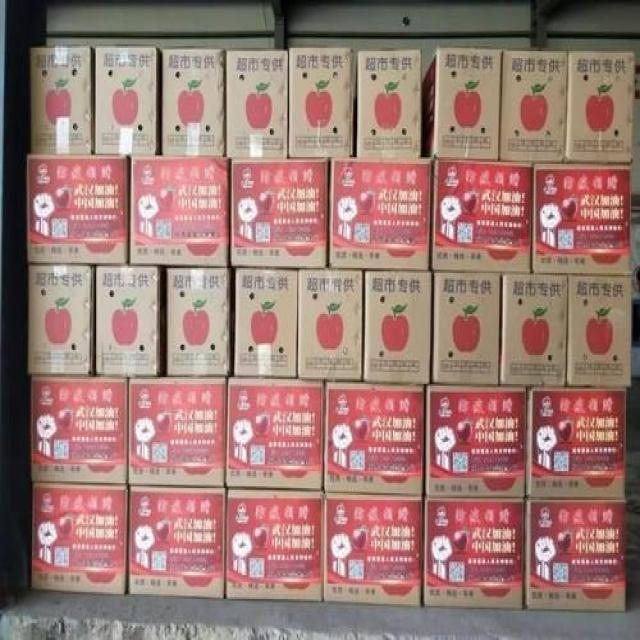box: (431, 160, 534, 273), (330, 159, 433, 271), (424, 498, 525, 611), (525, 498, 625, 611), (426, 386, 527, 497), (324, 382, 425, 493), (527, 387, 626, 500), (128, 486, 225, 601), (28, 154, 128, 265), (324, 495, 422, 608), (532, 162, 630, 275), (227, 488, 323, 602), (129, 157, 229, 266), (225, 377, 323, 488), (229, 159, 328, 268), (31, 485, 128, 594), (128, 377, 225, 486), (31, 375, 127, 483), (422, 48, 502, 160), (431, 271, 502, 384), (499, 273, 567, 386), (364, 271, 431, 384), (500, 51, 567, 162), (566, 53, 635, 160), (28, 265, 95, 375), (95, 265, 161, 375), (297, 270, 362, 381), (357, 49, 422, 159), (567, 275, 631, 386), (288, 48, 353, 157), (234, 268, 297, 379), (31, 46, 95, 154), (225, 48, 288, 157), (166, 268, 230, 375), (96, 44, 157, 154), (163, 48, 224, 157)
